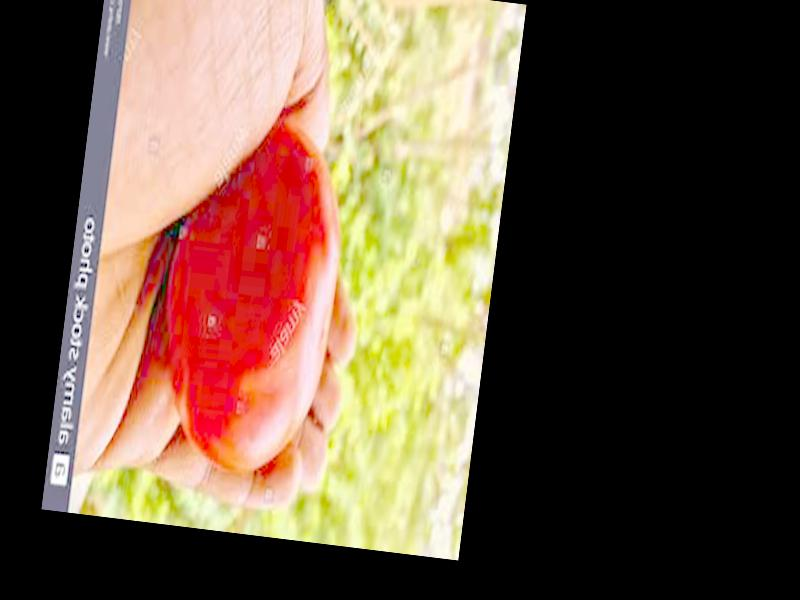Tomato: (148, 116, 352, 478)
